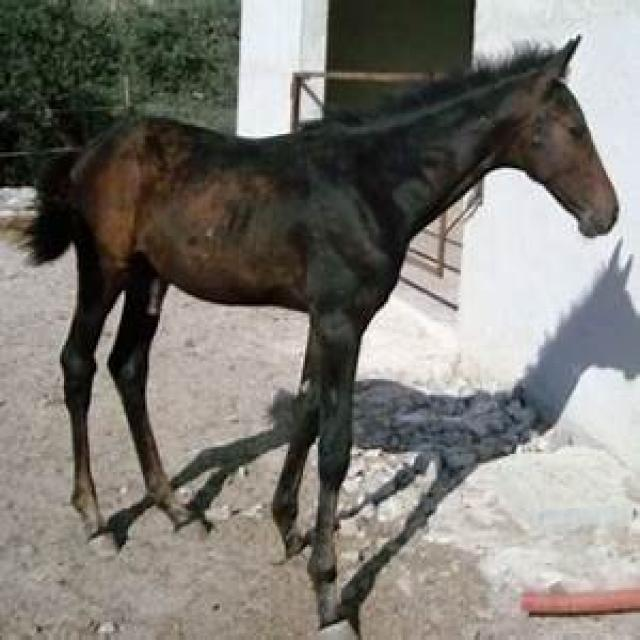horse: (17, 32, 619, 631)
